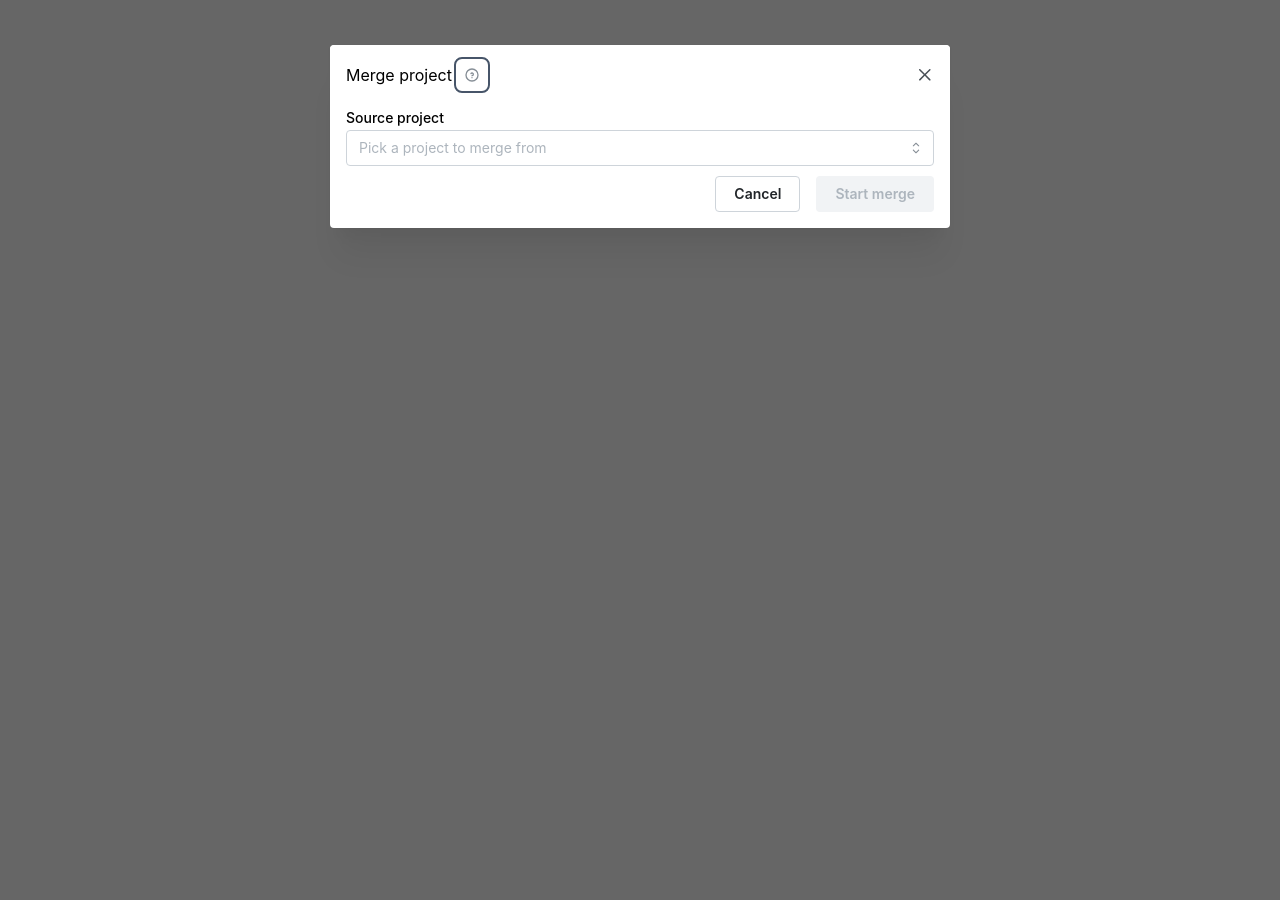
Test: the source Select excludes the target project itself
Step 1. Click the field labelled "Source project" → (640, 148), box [346,130,934,166]
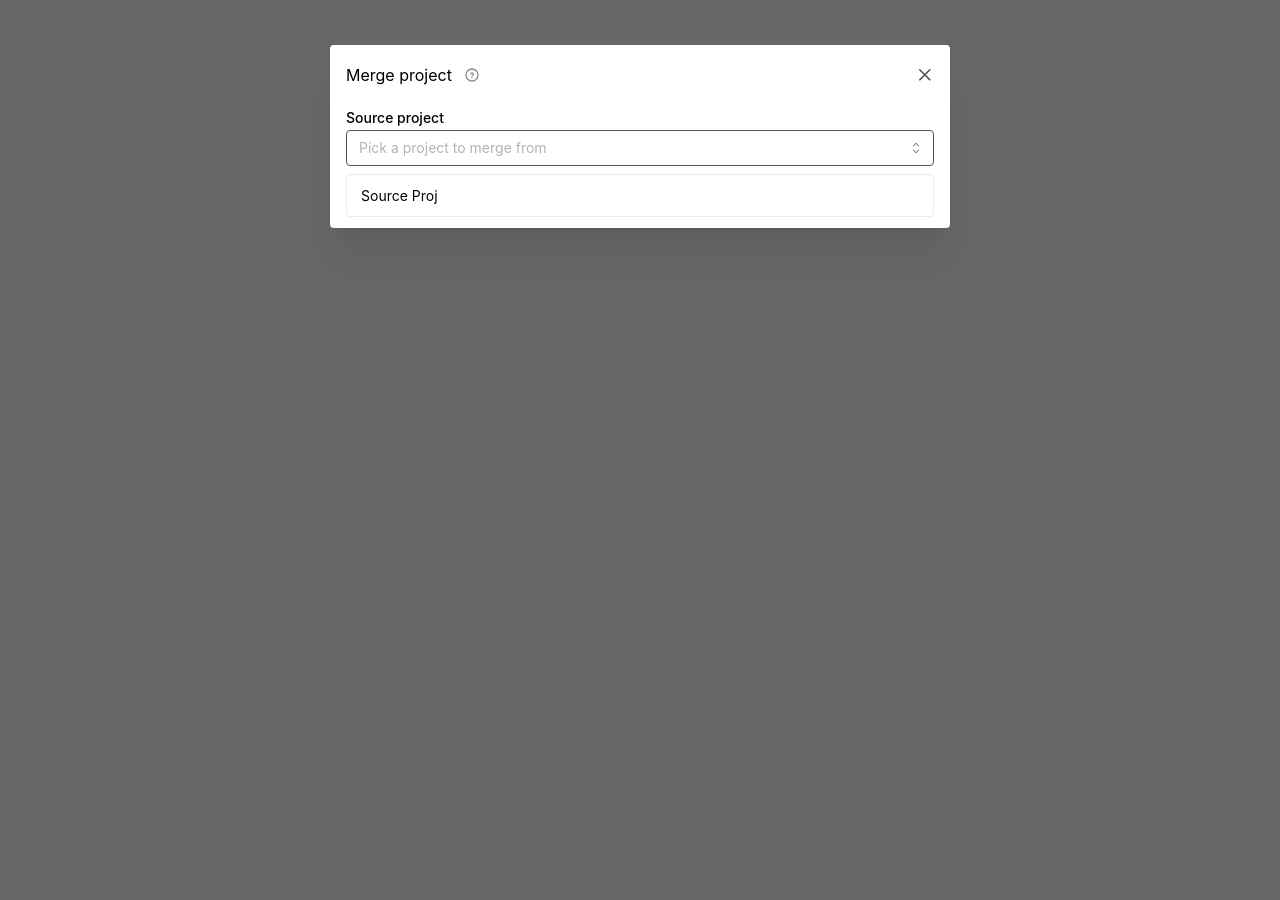
Check: the option "Source Proj" is shown, box [361,187,438,204]
